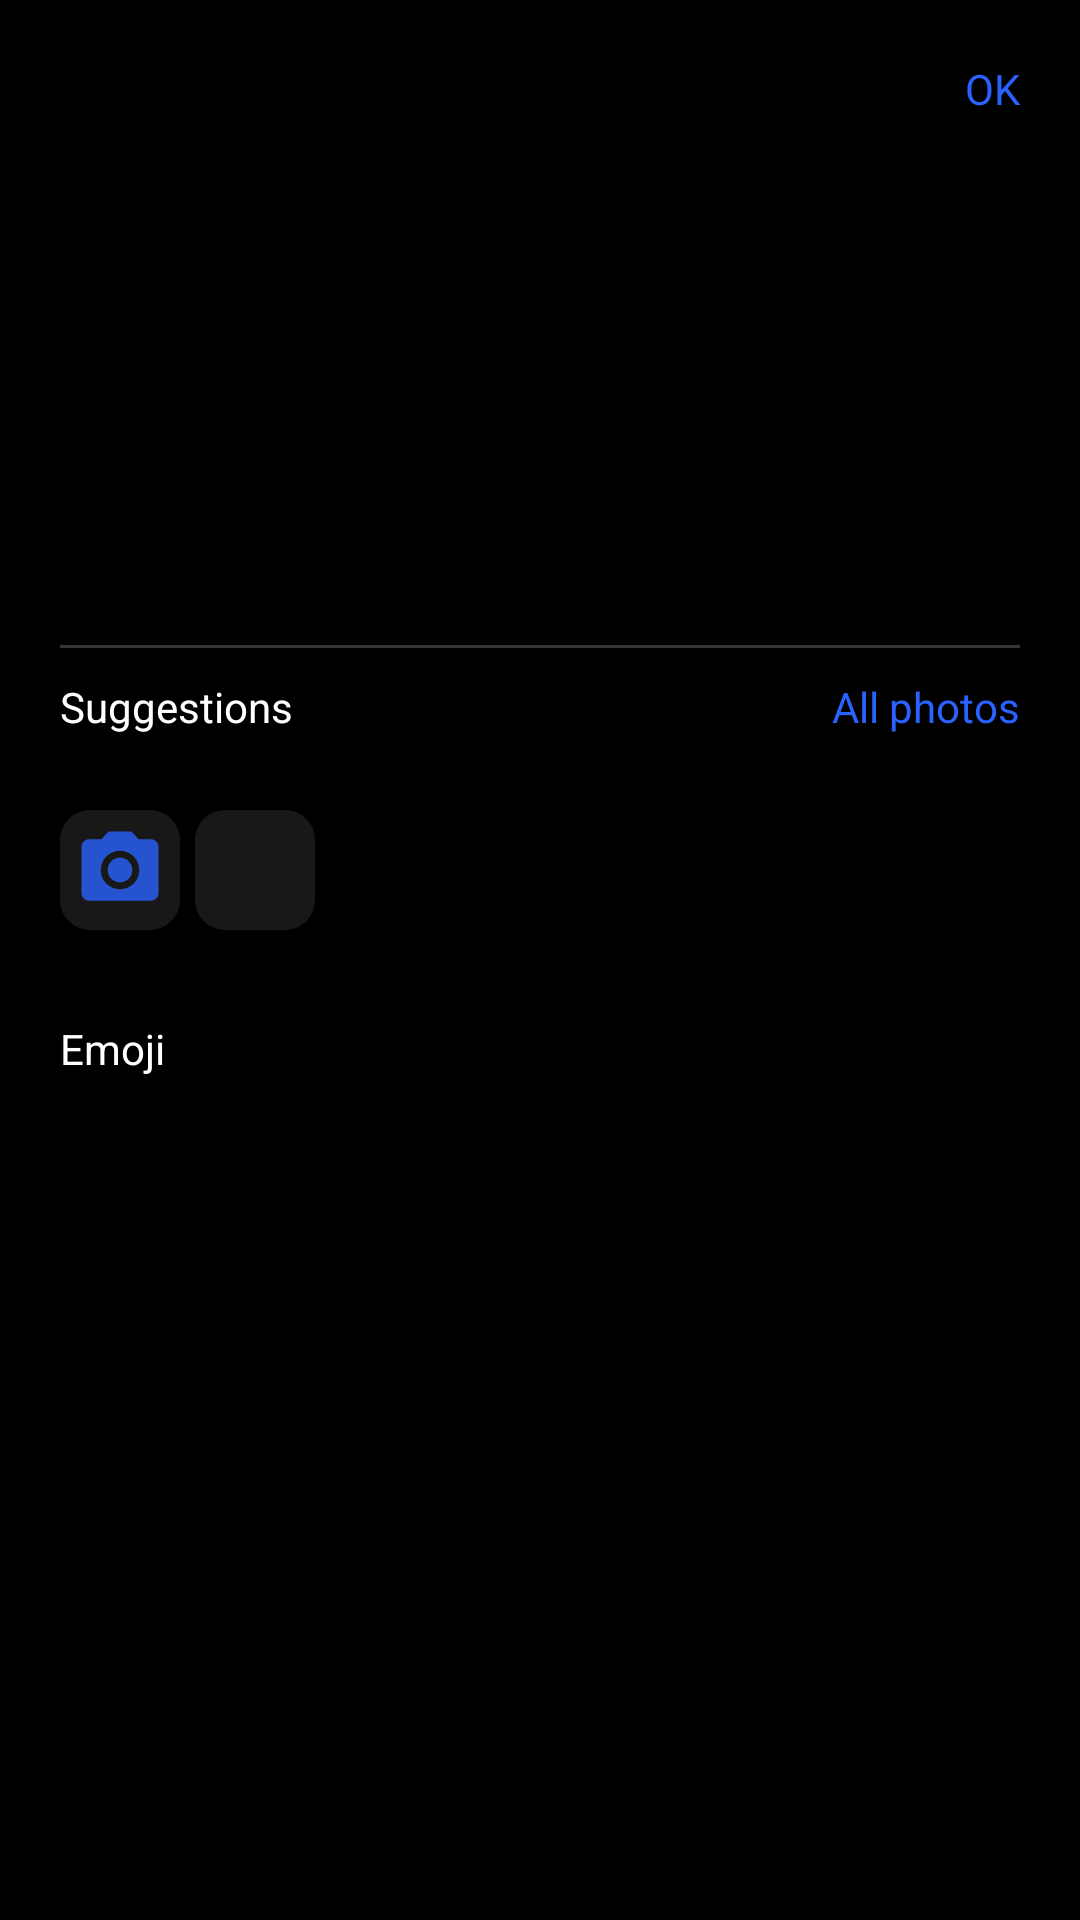

Screen size 1080 x 1920. Icon name, then its center in pixels as [x,y]:
camera: [120,866]
